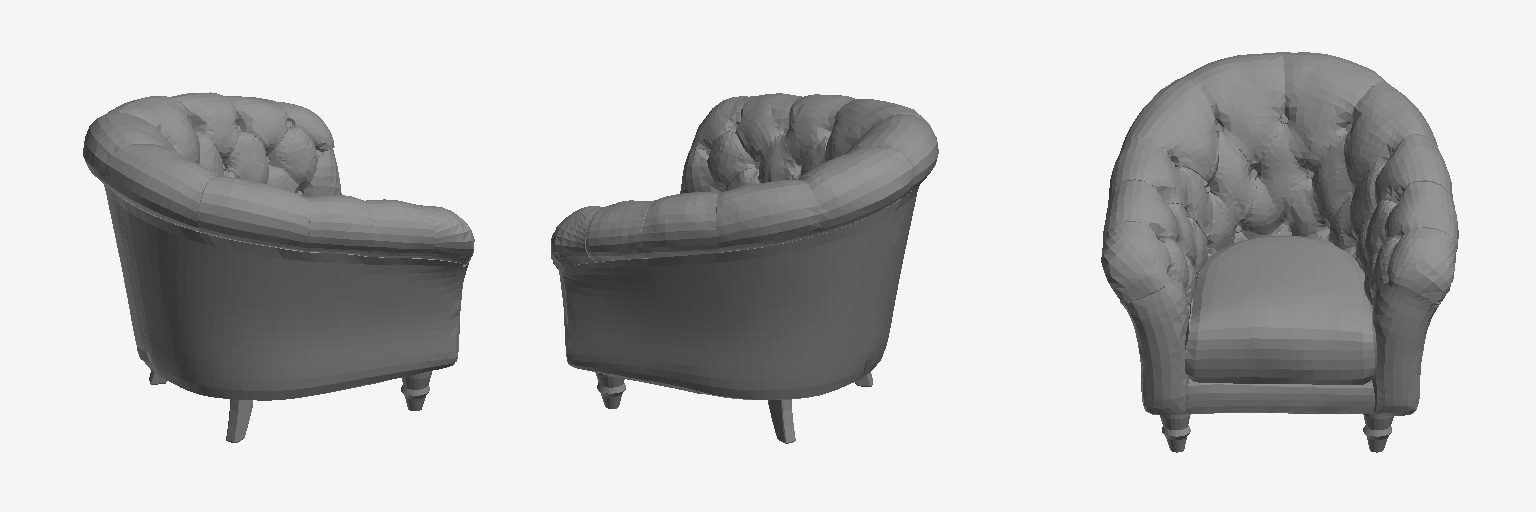
The model's file is sofa.obj.
3 renders of one model, left to right at view 1: azimuth 30°, elevation 25°; view 2: azimuth 150°, elevation 25°; view 3: azimuth 270°, elevation 25°, orthographic.
Parts seen in each view (by area): view 1: sofa; view 2: sofa; view 3: sofa.
Part boxes in pixels (x1,y1,x2,y2): sofa: (83, 92, 474, 442); sofa: (551, 93, 938, 443); sofa: (1101, 52, 1458, 452).
Bounding box in the file's own units: 11.11 × 10.03 × 11.45.